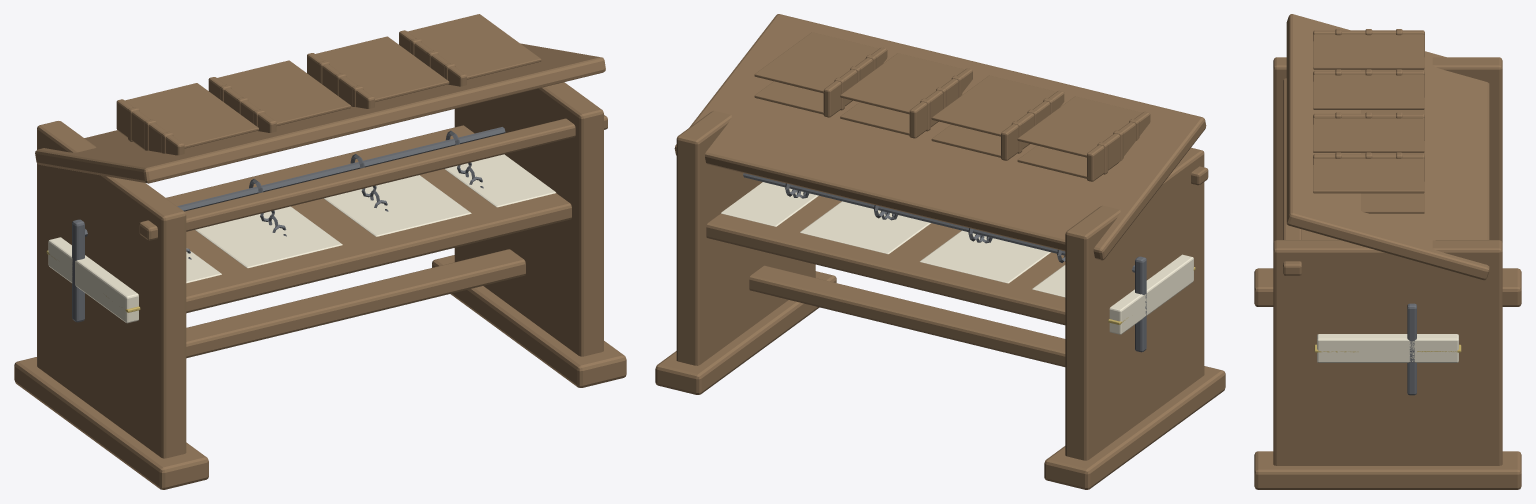
Rendered from chained_library_desk.glb.
3 views of the same model, side by side, from view 1: azimuth 30°, elevation 25°; view 2: azimuth 150°, elevation 25°; view 3: azimuth 270°, elevation 25° (orthographic). The views are drawn at different scales.
Visible parts, largest first — view 1: world; view 2: world; view 3: world.
Part boxes in pixels (bbox=[...]): world: bbox=[14, 14, 626, 489]; world: bbox=[655, 14, 1225, 489]; world: bbox=[1254, 14, 1521, 489].
Bounding box in the file's own units: 2 × 1.28 × 1.11.
Materials: 1 (1 with a texture image).
